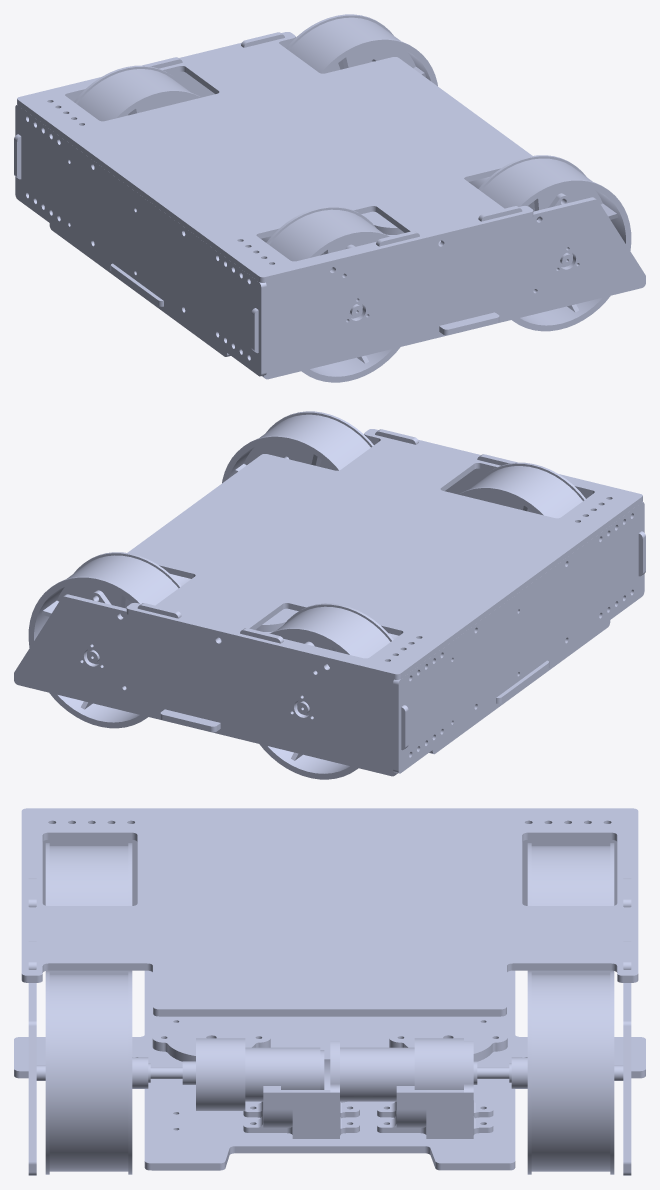
File: chassis_assembly.glb
3 views of the same model, one above another, from view 1: azimuth 30°, elevation 25°; view 2: azimuth 150°, elevation 25°; view 3: azimuth 270°, elevation 25° (orthographic). The views are drawn at different scales.
Visible parts, largest first — view 1: top_plate-1, side_plate-1, back_plate-1, chassis_assembly, wheel_basee-4, wheel_basee-3, side_plate-2, bottom_plate-1; view 2: top_plate-1, side_plate-2, back_plate-1, chassis_assembly, wheel_basee-4, wheel_basee-3, side_plate-1, bottom_plate-1; view 3: top_plate-1, chassis_assembly, bottom_plate-1, wheel_basee-4, DC Motor-4, wheel_basee-3, Mirrormotor mount-3, magnet_mount-1, magnet_mount-3, back_plate-1, side_plate-2, side_plate-1.
Boxes of the visible parts, box(x1,y1,x2,y2) form: top_plate-1: box(17, 32, 533, 282); side_plate-1: box(251, 197, 645, 379); back_plate-1: box(15, 105, 266, 376); chassis_assembly: box(261, 59, 631, 382); wheel_basee-4: box(286, 14, 437, 86); wheel_basee-3: box(74, 65, 200, 121); side_plate-2: box(14, 32, 287, 179); bottom_plate-1: box(110, 234, 499, 335); top_plate-1: box(126, 429, 642, 679); side_plate-2: box(14, 594, 408, 776); back_plate-1: box(393, 502, 644, 773); chassis_assembly: box(87, 411, 585, 714); wheel_basee-4: box(28, 552, 181, 728); wheel_basee-3: box(259, 603, 393, 779); side_plate-1: box(372, 429, 645, 576); bottom_plate-1: box(160, 631, 549, 732); top_plate-1: box(21, 808, 638, 1016); chassis_assembly: box(45, 843, 623, 1174); bottom_plate-1: box(14, 970, 645, 1170); wheel_basee-4: box(509, 971, 614, 1174); DC Motor-4: box(340, 1038, 509, 1101); wheel_basee-3: box(527, 843, 614, 974); Mirrormotor mount-3: box(377, 1041, 493, 1138); magnet_mount-1: box(152, 1018, 270, 1061); magnet_mount-3: box(389, 1018, 507, 1061); back_plate-1: box(42, 839, 617, 905); side_plate-2: box(623, 878, 631, 1175); side_plate-1: box(28, 878, 36, 1175).
Size of the model in its own units: 0.2871 by 0.1029 by 0.3203.
